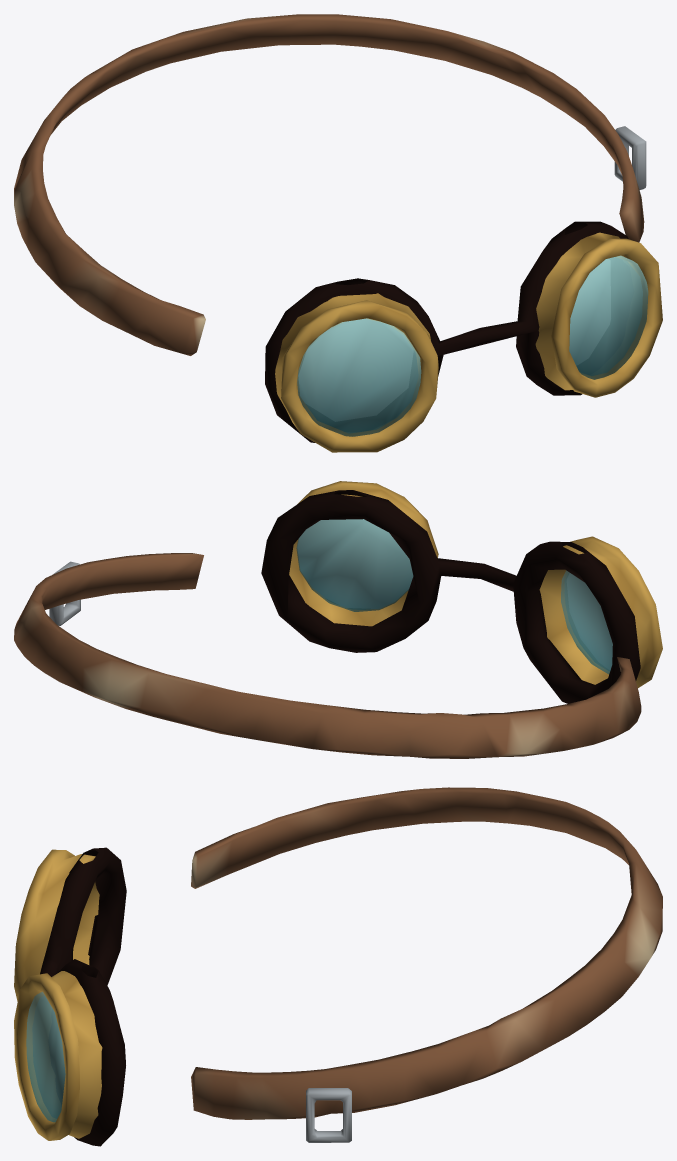
File: kinhphicong.glb
3 renders of one model, top to bottom at view 1: azimuth 30°, elevation 25°; view 2: azimuth 150°, elevation 25°; view 3: azimuth 270°, elevation 25°, orthographic. The views are drawn at different scales.
Parts seen in each view (by area): view 1: Day_Da, Coc_Dong, Kinh_PC, Dem_Da, Khoa_Day; view 2: Day_Da, Dem_Da, Kinh_PC, Coc_Dong, Khoa_Day; view 3: Day_Da, Coc_Dong, Dem_Da, Kinh_PC, Khoa_Day.
Boxes of the visible parts, bbox=[...] form: Day_Da: bbox=[14, 14, 644, 355]; Coc_Dong: bbox=[275, 232, 662, 452]; Kinh_PC: bbox=[297, 255, 648, 436]; Dem_Da: bbox=[265, 221, 628, 442]; Khoa_Day: bbox=[614, 126, 646, 189]; Day_Da: bbox=[14, 553, 641, 758]; Dem_Da: bbox=[261, 490, 640, 703]; Kinh_PC: bbox=[296, 519, 612, 674]; Coc_Dong: bbox=[289, 481, 662, 687]; Khoa_Day: bbox=[49, 561, 80, 625]; Day_Da: bbox=[191, 787, 662, 1119]; Coc_Dong: bbox=[14, 849, 102, 1140]; Dem_Da: bbox=[40, 847, 126, 1146]; Kinh_PC: bbox=[26, 991, 65, 1122]; Khoa_Day: bbox=[306, 1088, 351, 1142].
Size of the model in its own units: 0.2646 by 0.0866 by 0.2522.
